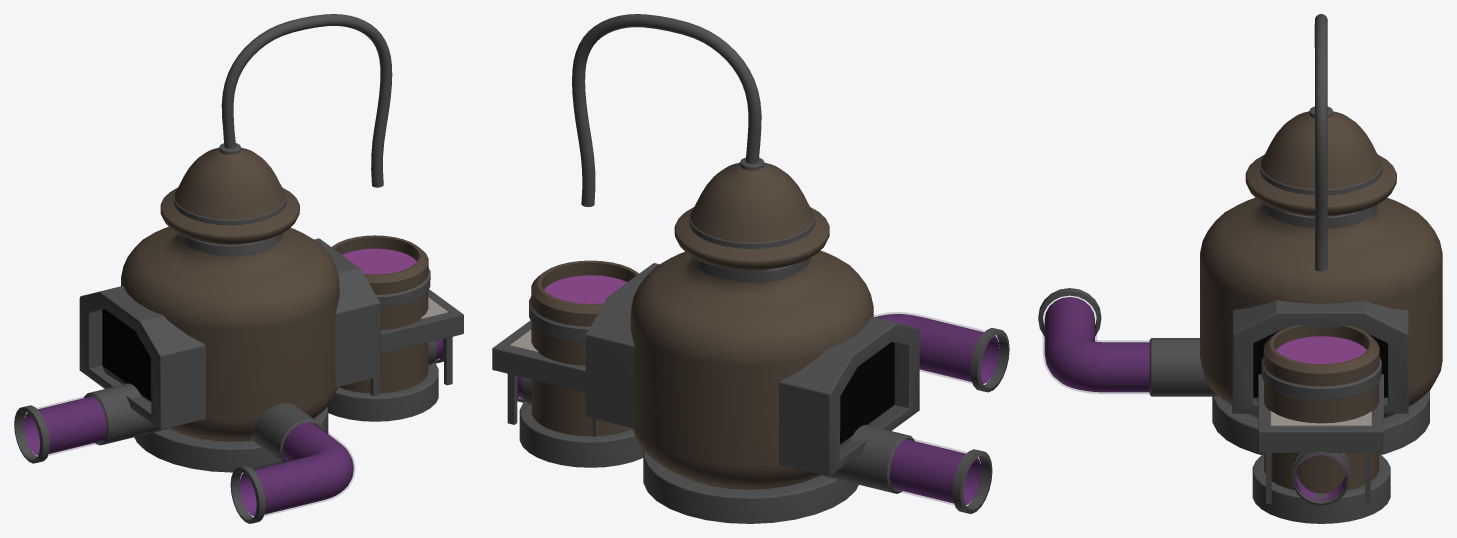
Rendered from Distiller_V1.fbx.
The picture shows the model from 3 angles, left to right: view 1: azimuth 30°, elevation 25°; view 2: azimuth 150°, elevation 25°; view 3: azimuth 270°, elevation 25°; orthographic projection. The views are drawn at different scales.
Parts seen in each view (by area): view 1: _Machine_Distiller, In_Solid, Out_Liquid, In_Liquid_T, Out_Solid, In_Liquid_S; view 2: _Machine_Distiller, In_Solid, Out_Liquid, Out_Solid, In_Liquid_S, In_Liquid_T; view 3: _Machine_Distiller, Out_Liquid, Out_Solid, In_Liquid_T.
Boxes of the visible parts, bbox=[...] form: _Machine_Distiller: bbox=[121, 14, 392, 472]; In_Solid: bbox=[79, 286, 205, 429]; Out_Liquid: bbox=[328, 235, 443, 421]; In_Liquid_T: bbox=[230, 403, 354, 523]; Out_Solid: bbox=[314, 238, 463, 396]; In_Liquid_S: bbox=[14, 383, 167, 463]; _Machine_Distiller: bbox=[572, 14, 873, 523]; In_Solid: bbox=[779, 316, 919, 476]; Out_Liquid: bbox=[517, 260, 643, 467]; Out_Solid: bbox=[492, 263, 659, 436]; In_Liquid_S: bbox=[821, 424, 992, 513]; In_Liquid_T: bbox=[874, 312, 1009, 392]; _Machine_Distiller: bbox=[1200, 14, 1442, 454]; Out_Liquid: bbox=[1252, 325, 1390, 523]; Out_Solid: bbox=[1232, 300, 1408, 503]; In_Liquid_T: bbox=[1038, 288, 1218, 396].
Size of the model in its own units: 4.07 by 3.75 by 3.22.
